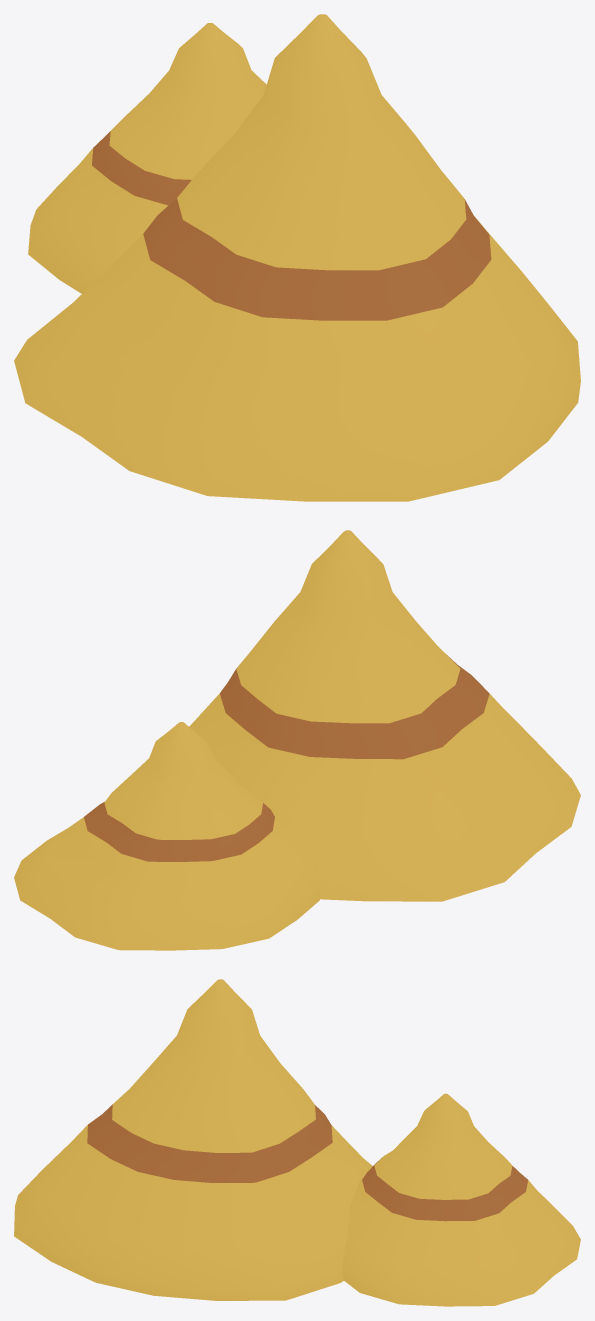
File: Blender_BadlandsMound_2.glb
3 renders of one model, top to bottom at view 1: azimuth 30°, elevation 25°; view 2: azimuth 150°, elevation 25°; view 3: azimuth 270°, elevation 25°, orthographic. The views are drawn at different scales.
Visible parts, largest first — view 1: Blender_BadlandsMound_2; view 2: Blender_BadlandsMound_2; view 3: Blender_BadlandsMound_2.
Part boxes in pixels (x1,y1,x2,y2): Blender_BadlandsMound_2: (14,14,580,501); Blender_BadlandsMound_2: (14,530,580,950); Blender_BadlandsMound_2: (14,979,580,1306).
Size of the model in its own units: 5.14 by 3.63 by 7.56.
